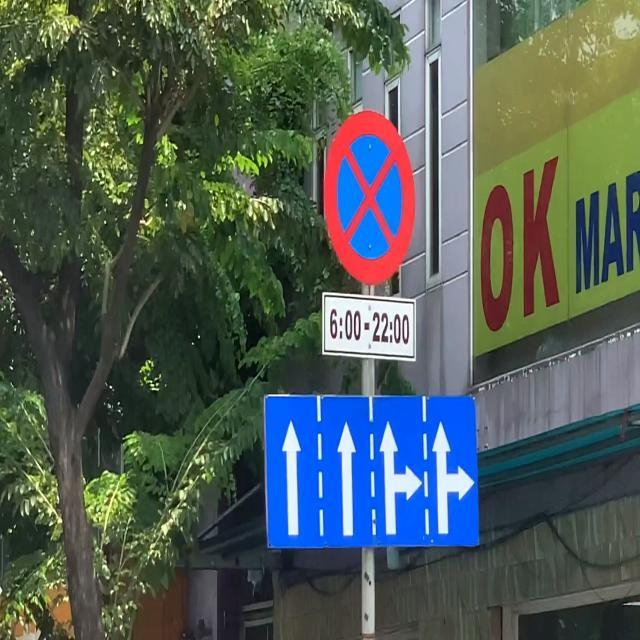P-130: (322, 113, 413, 281)
